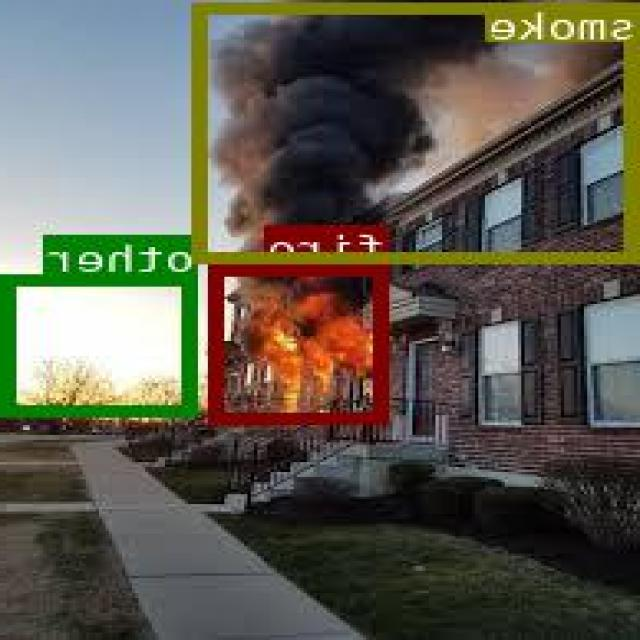fire: (214, 263, 392, 421)
other: (7, 273, 199, 413)
smoke: (195, 0, 640, 262)
